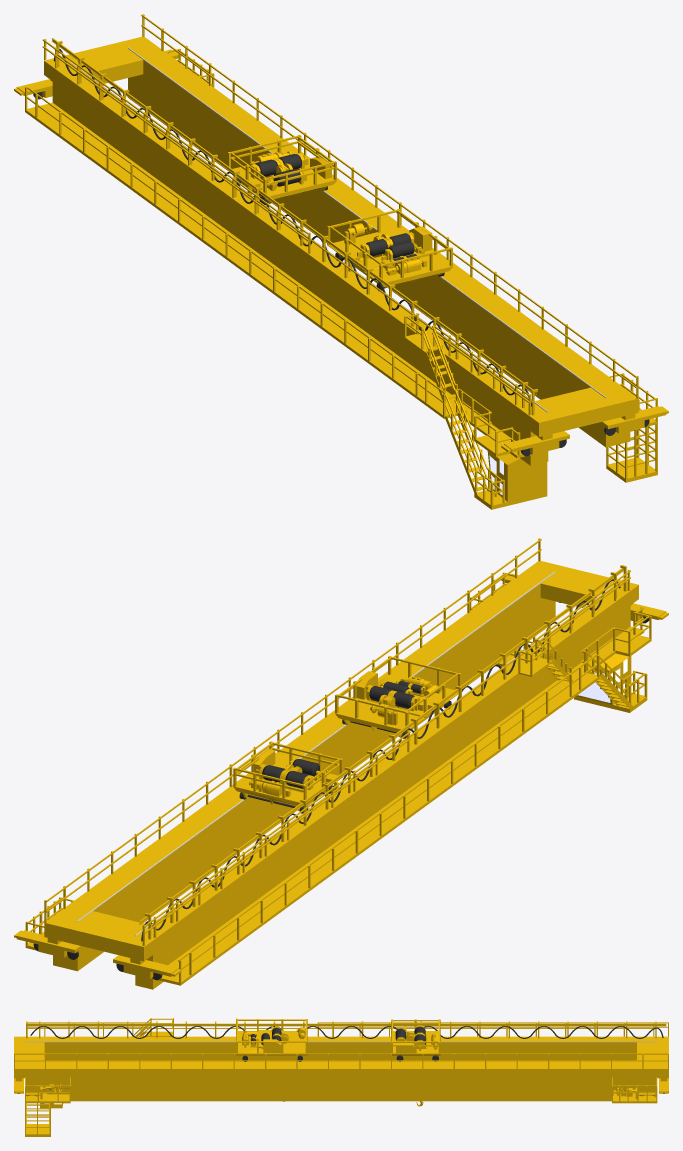
3 renders of one model, top to bottom at view 1: azimuth 30°, elevation 25°; view 2: azimuth 150°, elevation 25°; view 3: azimuth 270°, elevation 25°, orthographic. The views are drawn at different scales.
Visible parts, largest first — view 1: 2_Bay_C_869__Body; view 2: 2_Bay_C_869__Body; view 3: 2_Bay_C_869__Body.
Boxes of the visible parts, x1,y1,x2,y2 form: 2_Bay_C_869__Body: (14,14,668,509); 2_Bay_C_869__Body: (14,538,668,989); 2_Bay_C_869__Body: (14,1018,668,1136).
Size of the model in its own units: 8.07 by 6.06 by 43.01.
